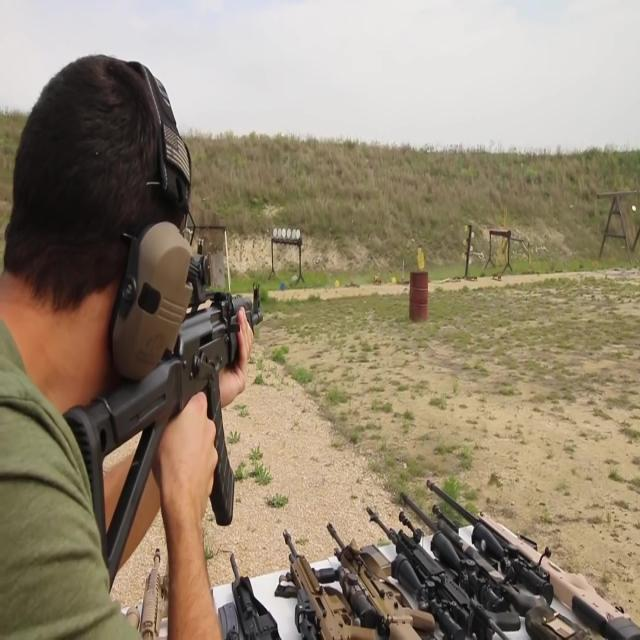Weapon: (0, 200, 310, 585), (75, 432, 639, 640)
